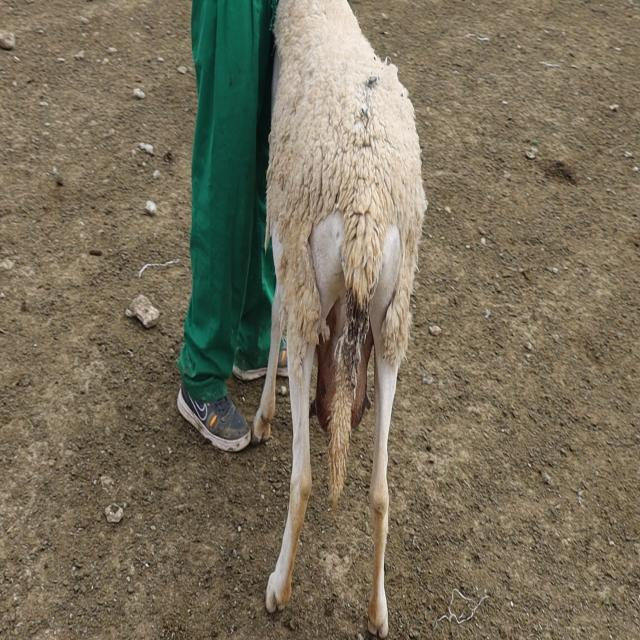Score_2: (250, 0, 427, 638)
